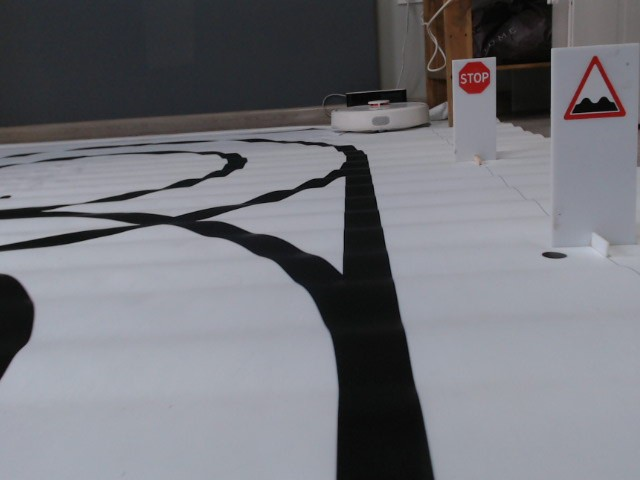Nerov: (561, 54, 629, 121)
